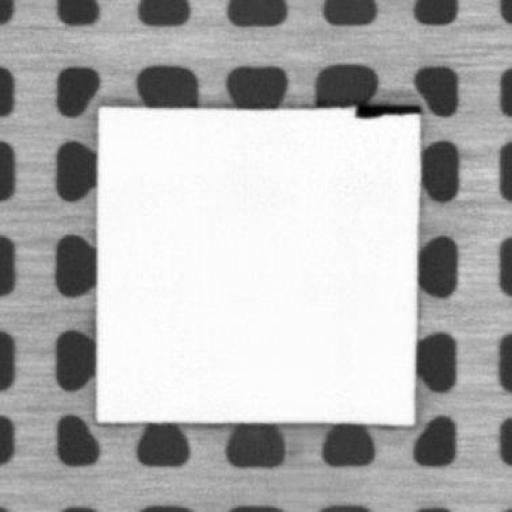DIE_BROKEN: (348, 98, 424, 119)
